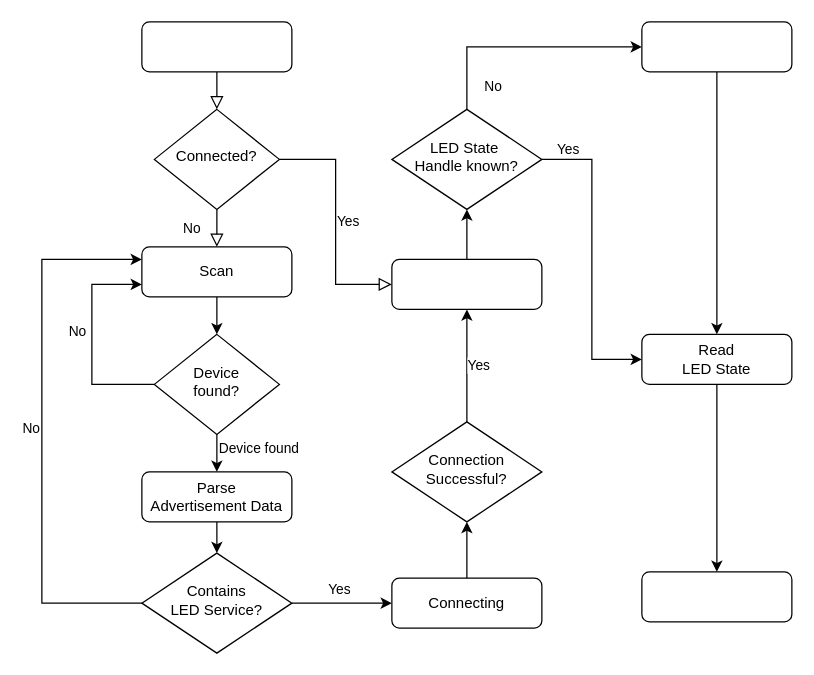
Image size: 814x675. Some labels were removed from this diagram. Each missing label, with the centre of its shape:
"Button pressed" goes at point (216, 46).
"Connected" goes at point (466, 283).
"Service Discovery" goes at point (716, 46).
"Write LED State" goes at point (716, 596).
